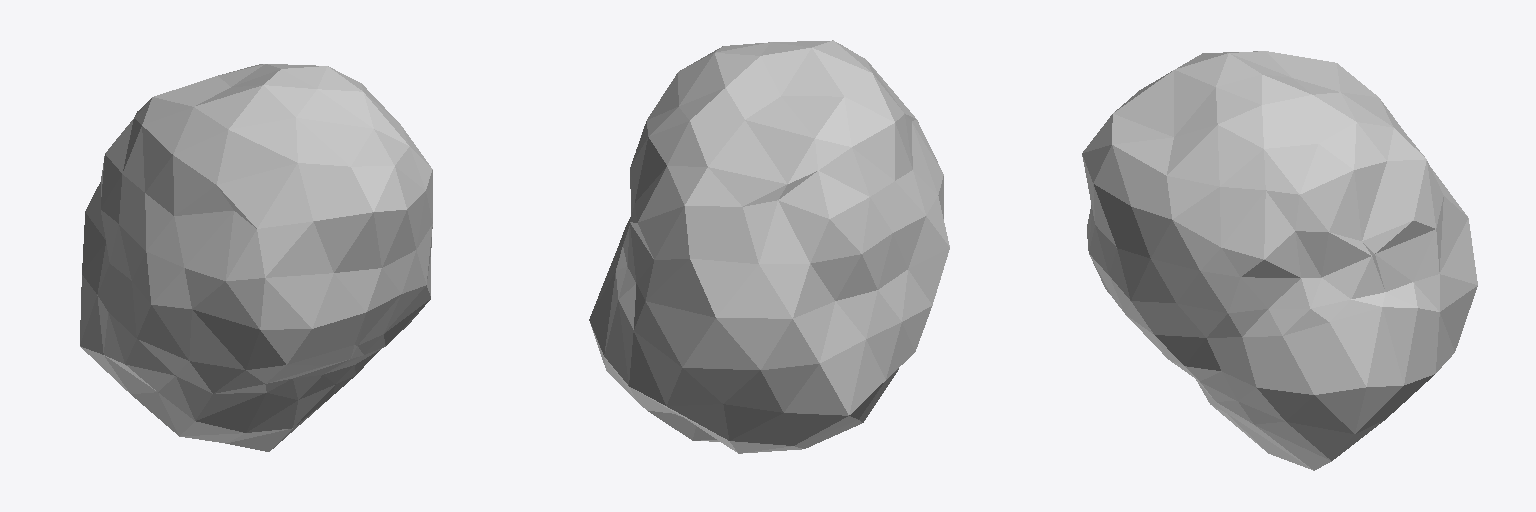
Rendered from Asteroid.obj.
3 renders of one model, left to right at view 1: azimuth 30°, elevation 25°; view 2: azimuth 150°, elevation 25°; view 3: azimuth 270°, elevation 25°, orthographic.
Visible parts, largest first — view 1: Icosphere; view 2: Icosphere; view 3: Icosphere.
Boxes of the visible parts, <box> form: Icosphere: <box>80,64,432,451</box>; Icosphere: <box>589,40,949,453</box>; Icosphere: <box>1082,51,1477,470</box>.
Size of the model in its own units: 1.81 by 2.35 by 2.17.